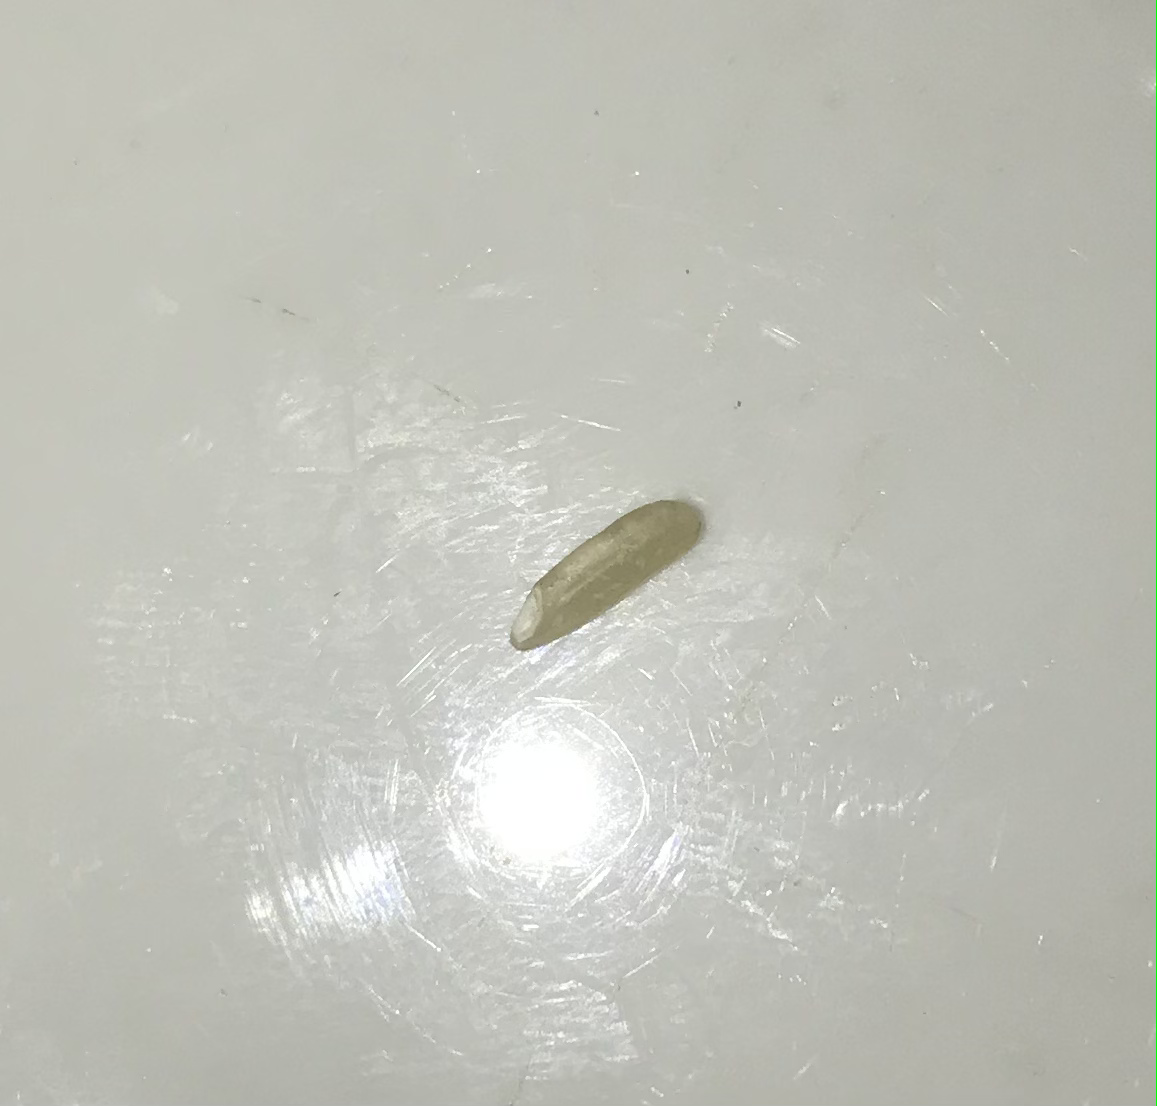Gao Lut Trang: (509, 487, 709, 669)
